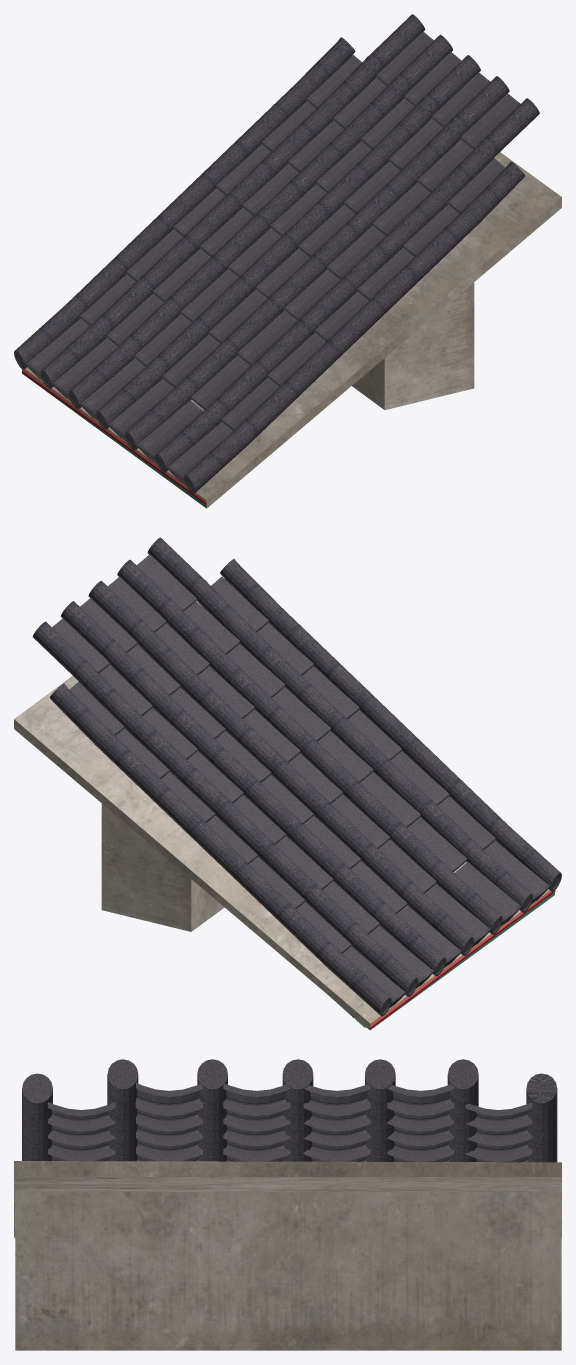
File: SM_Roof_35.fbx
The picture shows the model from 3 angles, top to bottom: view 1: azimuth 30°, elevation 25°; view 2: azimuth 150°, elevation 25°; view 3: azimuth 270°, elevation 25°; orthographic projection. The views are drawn at different scales.
Parts seen in each view (by area): view 1: SM_Roof_35; view 2: SM_Roof_35; view 3: SM_Roof_35.
Part boxes in pixels (bbox=[...]): SM_Roof_35: bbox=[14, 14, 561, 508]; SM_Roof_35: bbox=[14, 537, 561, 1030]; SM_Roof_35: bbox=[14, 1059, 561, 1350].
Size of the model in its own units: 321 by 270 by 250.
Materials: 4 (4 with a texture image).
